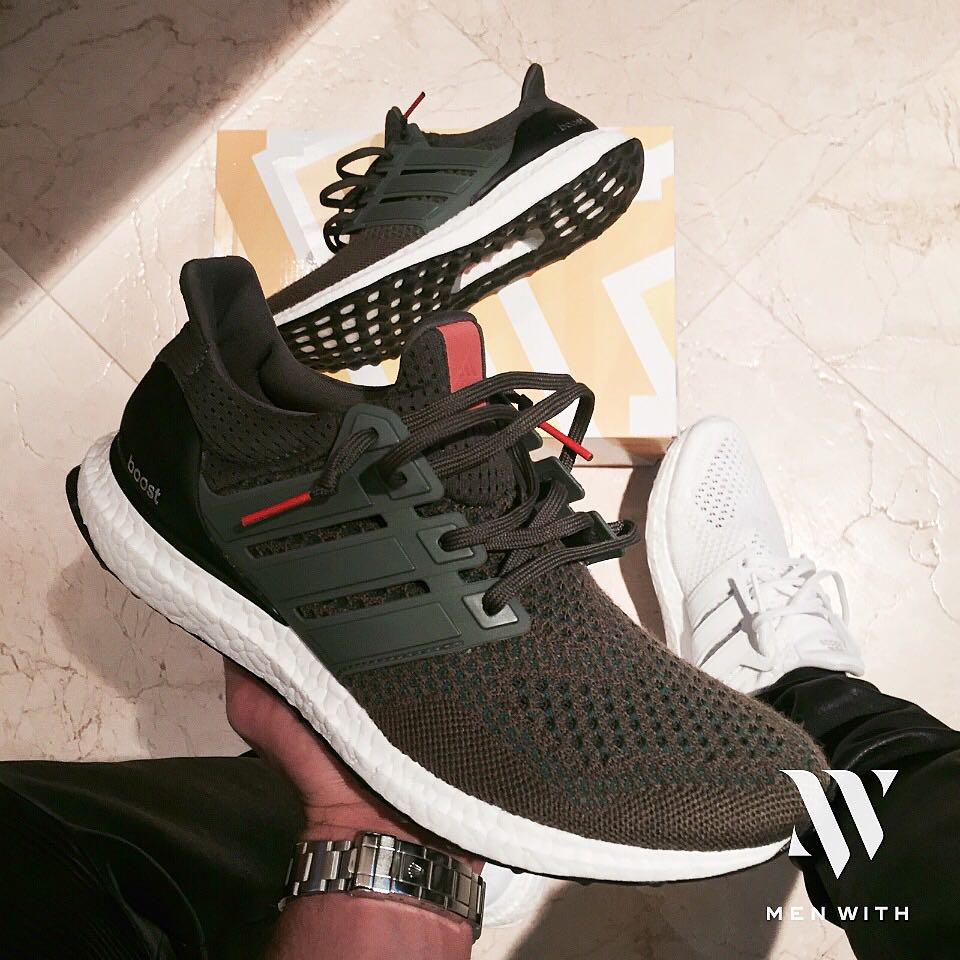sneaker: (608, 387, 883, 738)
